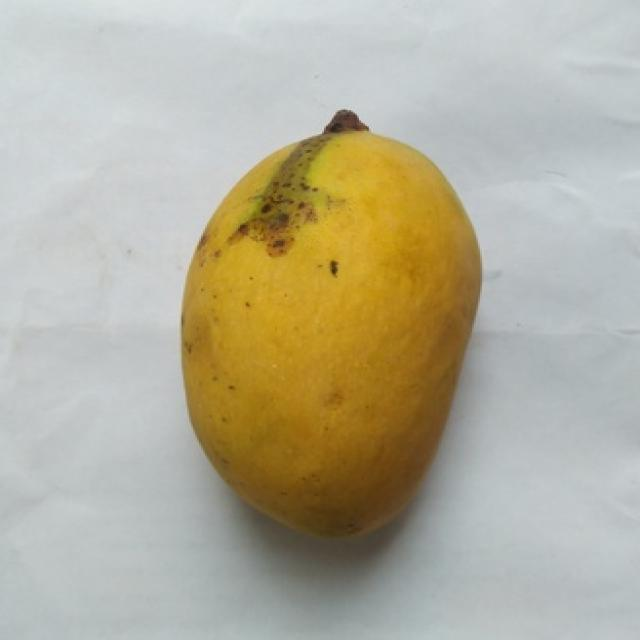Mango: (183, 113, 480, 533)
